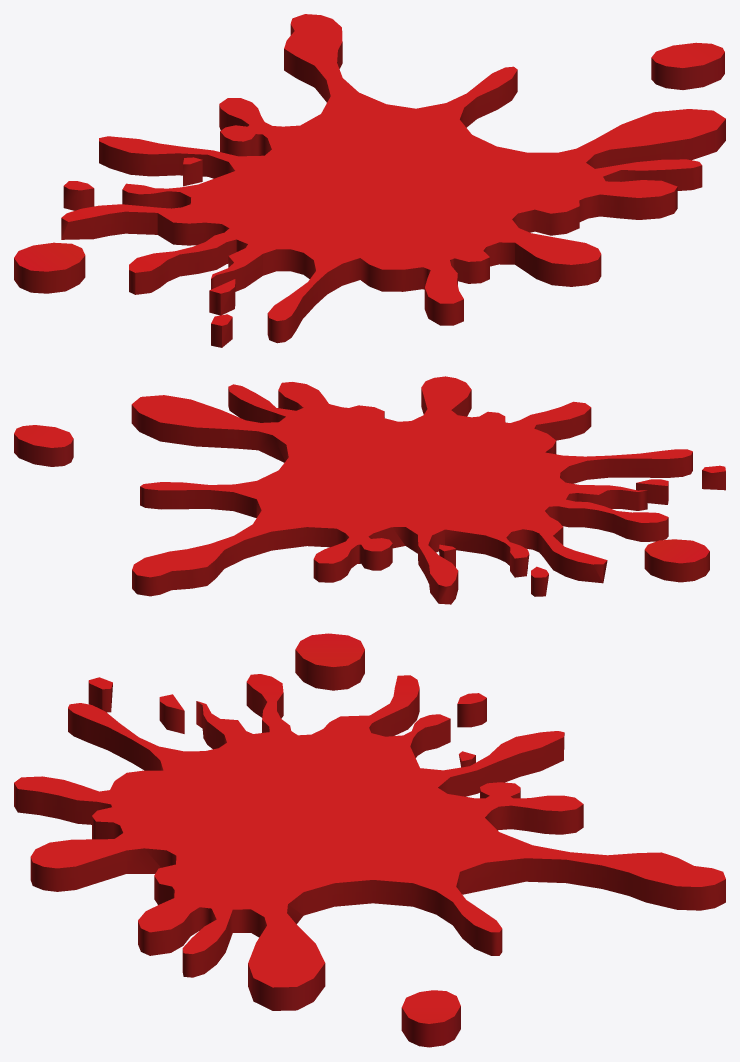
The picture shows the model from 3 angles, top to bottom: view 1: azimuth 30°, elevation 25°; view 2: azimuth 150°, elevation 25°; view 3: azimuth 270°, elevation 25°; orthographic projection. The views are drawn at different scales.
Visible parts, largest first — view 1: SausageSplat; view 2: SausageSplat; view 3: SausageSplat.
Part boxes in pixels (x1,y1,x2,y2): SausageSplat: [14, 14, 725, 347]; SausageSplat: [14, 376, 725, 604]; SausageSplat: [14, 633, 725, 1047].
Size of the model in its own units: 15.33 by 0.4301 by 11.81.
Materials: 1 (1 with a texture image).
